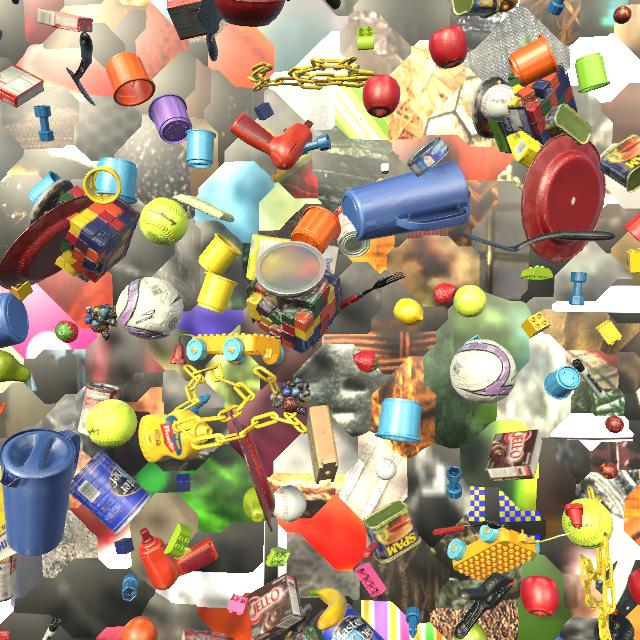ycb_002_master_chef_can: (70, 450, 152, 536), (322, 603, 385, 640)
ycb_004_sugar_box: (246, 234, 339, 281), (0, 465, 17, 561), (506, 131, 543, 168)
ycb_005_tomato_soup_can: (77, 382, 120, 437), (333, 205, 370, 258), (0, 554, 17, 602)
ycb_006_mustard_bottle: (138, 410, 213, 462)
ycb_007_tuna_fish_can: (407, 136, 450, 177)
ycb_008_pudding_box: (247, 573, 304, 640), (485, 429, 543, 482)
ycb_009_gelatin_box: (0, 64, 44, 108), (166, 0, 208, 40), (37, 8, 93, 32), (181, 629, 227, 640), (0, 631, 9, 640)
ycb_010_potted_meat_can: (363, 501, 421, 563), (599, 134, 640, 193), (545, 104, 592, 146), (451, 0, 500, 19)
ycb_011_banana: (309, 588, 347, 630)
ycb_012_strawberry: (353, 350, 378, 373), (55, 320, 79, 343), (432, 283, 457, 305)
ycb_013_apple: (428, 26, 468, 69), (362, 74, 400, 118), (520, 575, 560, 616), (627, 568, 640, 605)
ycb_014_lemon: (394, 298, 423, 325)
ycb_015_peach: (498, 0, 519, 13)
ycb_016_pear: (243, 487, 275, 523), (0, 350, 32, 382), (454, 623, 488, 640)
ycb_017_orange: (121, 616, 158, 640)
